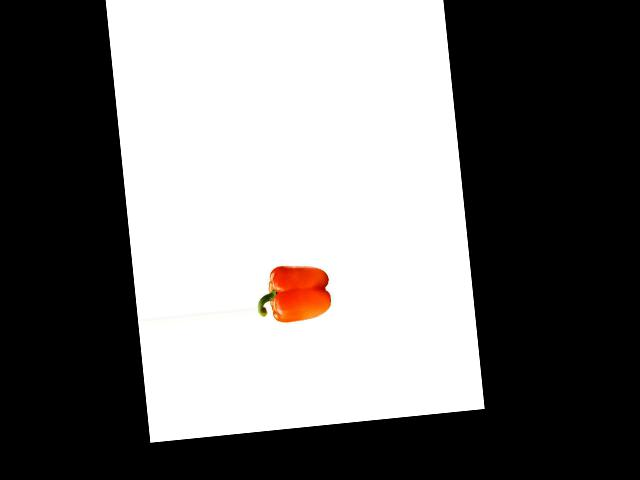bell_pepper: (253, 256, 333, 331)
